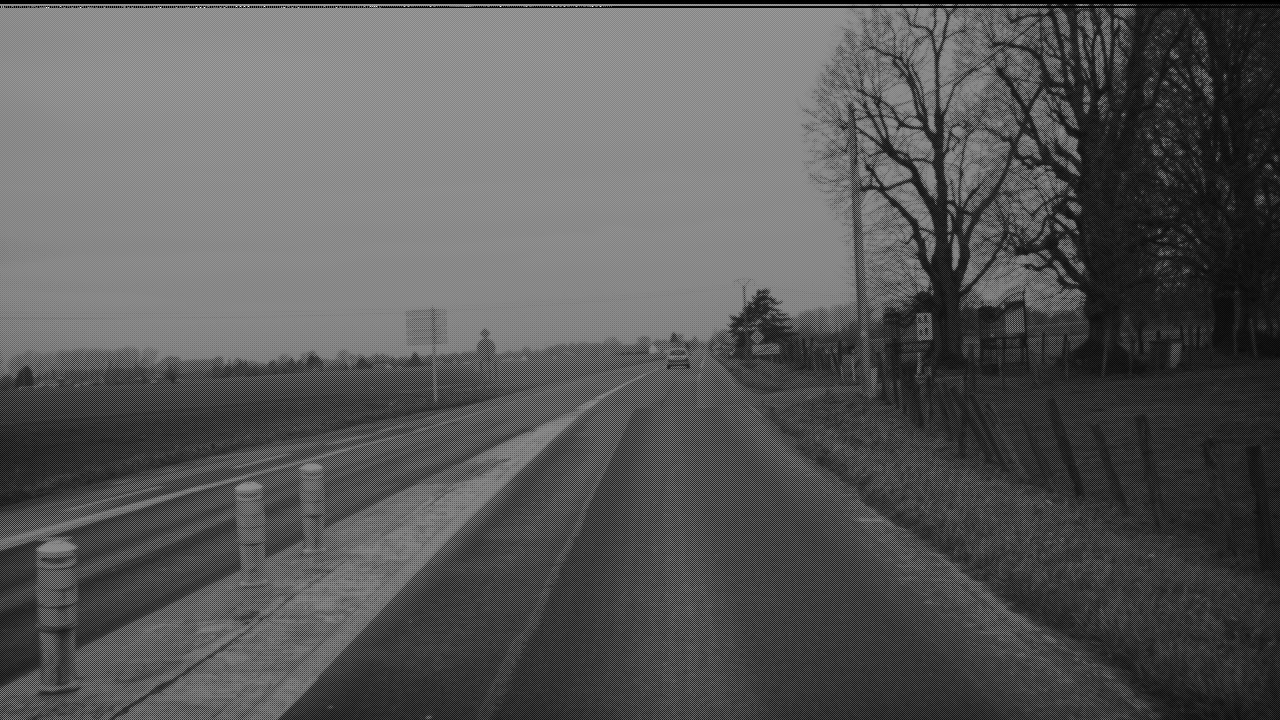pole: (846, 94, 874, 388)
